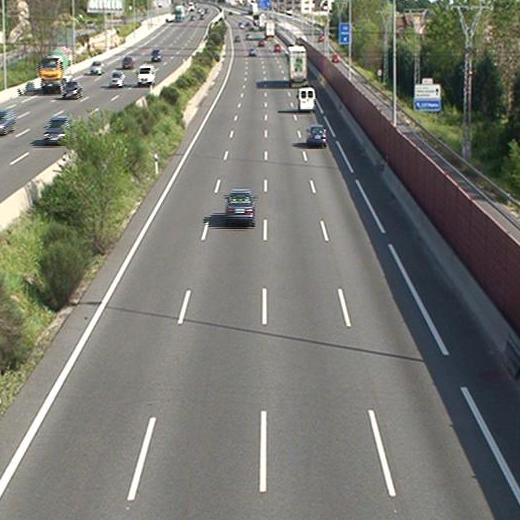car: (225, 190, 254, 223), (308, 125, 326, 144)
truck: (288, 45, 307, 87)
van: (297, 88, 315, 111)
